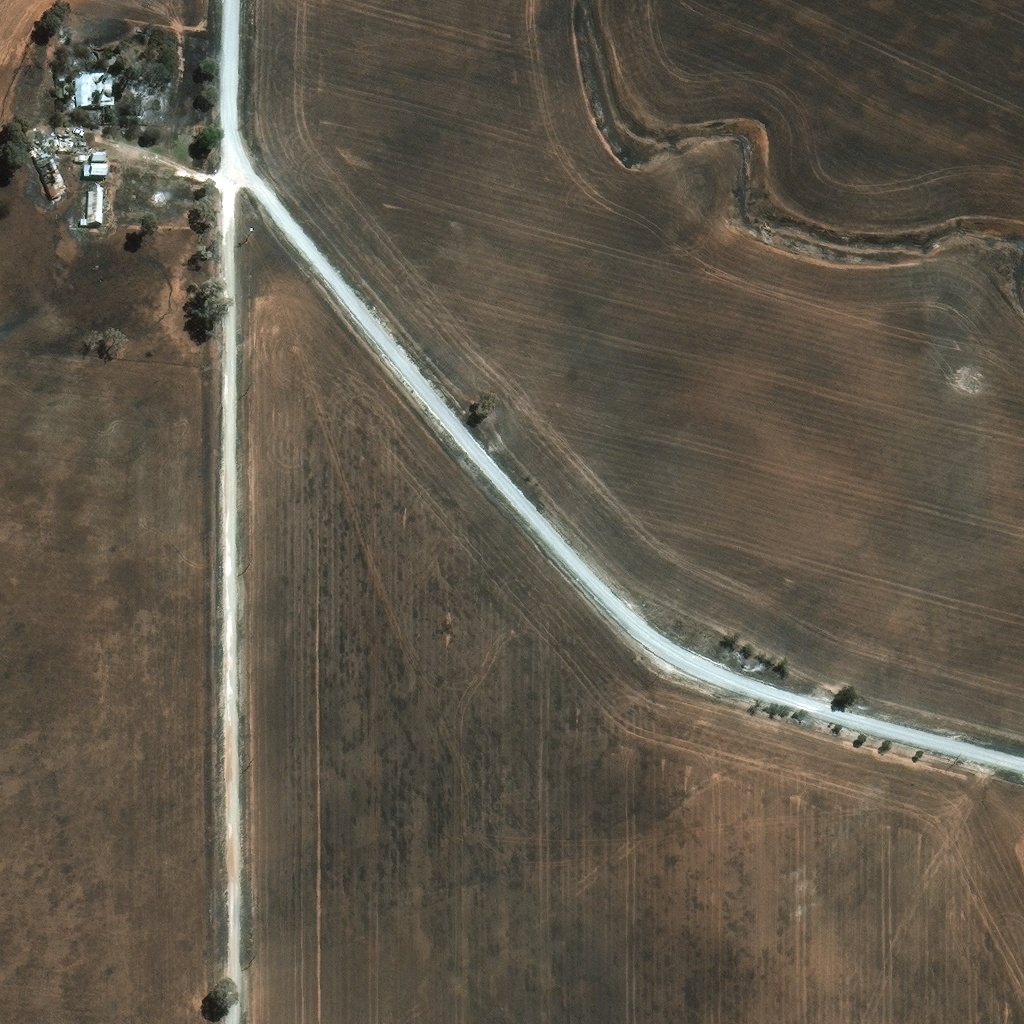1 minor-damage: (82, 165, 106, 177)
2 major-damage: (74, 71, 114, 108), (80, 188, 103, 224), (90, 153, 106, 162), (60, 81, 70, 92)
3 destroyed: (21, 128, 66, 200), (57, 133, 74, 152), (74, 154, 88, 162)
